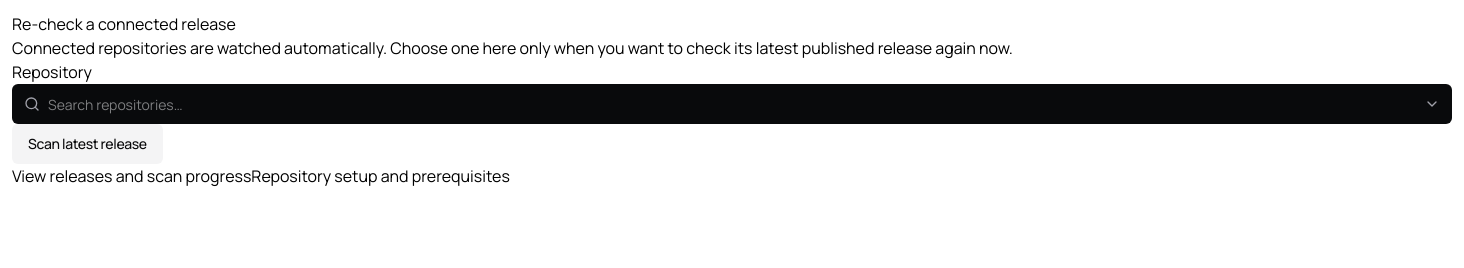
Test: does not allow a blind duplicate while the tracked job outcome is unavailable
Click the dropdown named "Repository".
click(732, 104)  # box [12,84,1452,124]
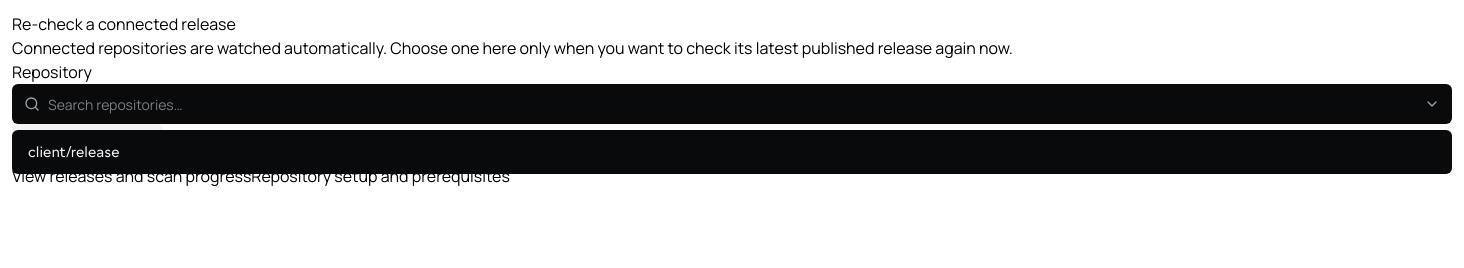
Click the option "client/release".
click(74, 152)  # box [28,144,120,160]
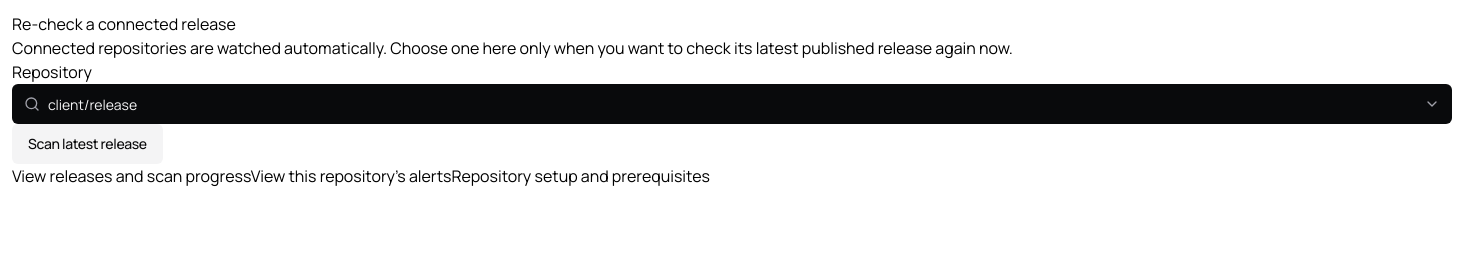
Click the button "Scan latest release".
click(87, 144)  # box [12,124,163,164]
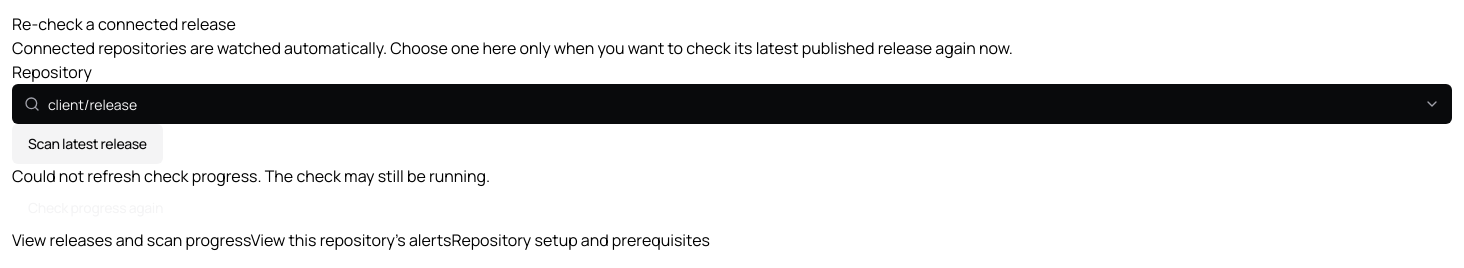
Expected: the text "Could not refresh check progress" is shown, [12,165,490,187]
